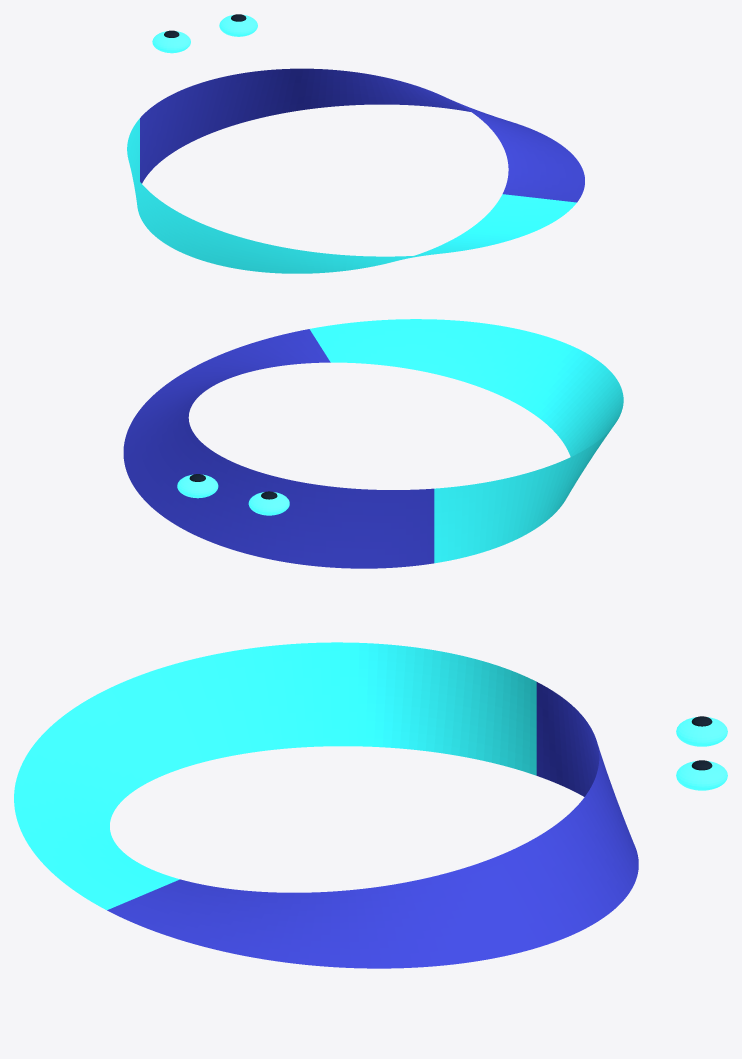
The model's file is mobius-wordmark-animated.glb.
3 views of the same model, one above another, from view 1: azimuth 30°, elevation 25°; view 2: azimuth 150°, elevation 25°; view 3: azimuth 270°, elevation 25° (orthographic). The views are drawn at different scales.
Parts seen in each view (by area): view 1: MobiusBody, Eye_Right, Eye_Left; view 2: MobiusBody, Eye_Left, Eye_Right; view 3: MobiusBody, Eye_Left, Eye_Right.
Boxes of the visible parts, box(x1,y1,x2,y2) form: MobiusBody: box(127, 68, 584, 273); Eye_Right: box(219, 14, 257, 36); Eye_Left: box(152, 31, 190, 53); MobiusBody: box(123, 319, 623, 568); Eye_Left: box(248, 492, 289, 515); Eye_Right: box(177, 474, 218, 498); MobiusBody: box(14, 642, 638, 968); Eye_Left: box(676, 717, 727, 746); Eye_Right: box(676, 761, 727, 790).
Size of the model in its own units: 6.93 by 0.856 by 4.68.
